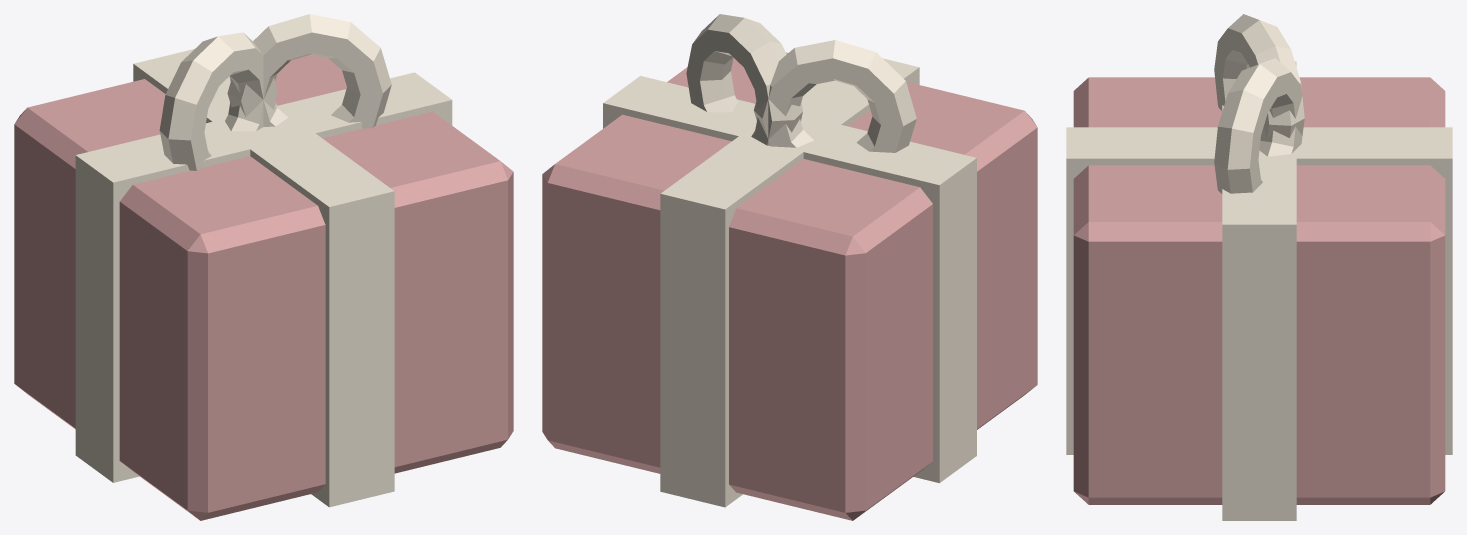
The model's file is sb_present_rose.glb.
3 renders of one model, left to right at view 1: azimuth 30°, elevation 25°; view 2: azimuth 150°, elevation 25°; view 3: azimuth 270°, elevation 25°, orthographic.
Visible parts, largest first — view 1: present_rose; view 2: present_rose; view 3: present_rose.
Boxes of the visible parts, <box> form: present_rose: <box>14,14,513,520</box>; present_rose: <box>542,14,1037,520</box>; present_rose: <box>1066,14,1452,520</box>.
Bounding box in the file's own units: 0.52 × 0.59 × 0.52.
